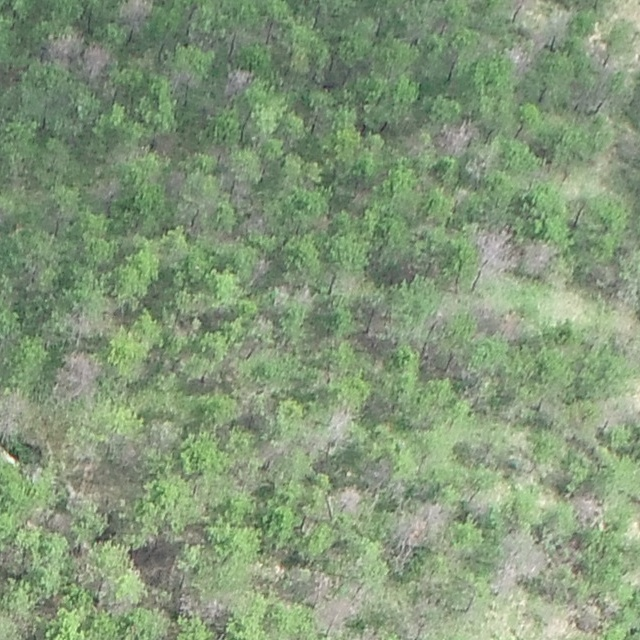unhealthy: (500, 526, 551, 590), (54, 348, 104, 399), (397, 501, 442, 548), (473, 227, 514, 270), (176, 596, 237, 622), (440, 116, 479, 156), (520, 238, 559, 276), (315, 598, 352, 633), (0, 394, 30, 437), (570, 493, 607, 527), (79, 44, 112, 81), (45, 27, 80, 61), (72, 441, 102, 480), (62, 308, 97, 339), (86, 177, 126, 203), (540, 12, 572, 44), (506, 42, 535, 75), (600, 396, 627, 431), (224, 67, 254, 98), (328, 408, 359, 435), (500, 310, 527, 341), (120, 0, 154, 24), (575, 603, 603, 632), (149, 419, 180, 445), (365, 455, 389, 488), (66, 490, 97, 515), (72, 560, 98, 586), (117, 437, 139, 467), (313, 571, 335, 599), (338, 486, 362, 510), (509, 431, 528, 460), (293, 283, 318, 305), (47, 512, 68, 535), (472, 301, 495, 321), (255, 258, 271, 278)
